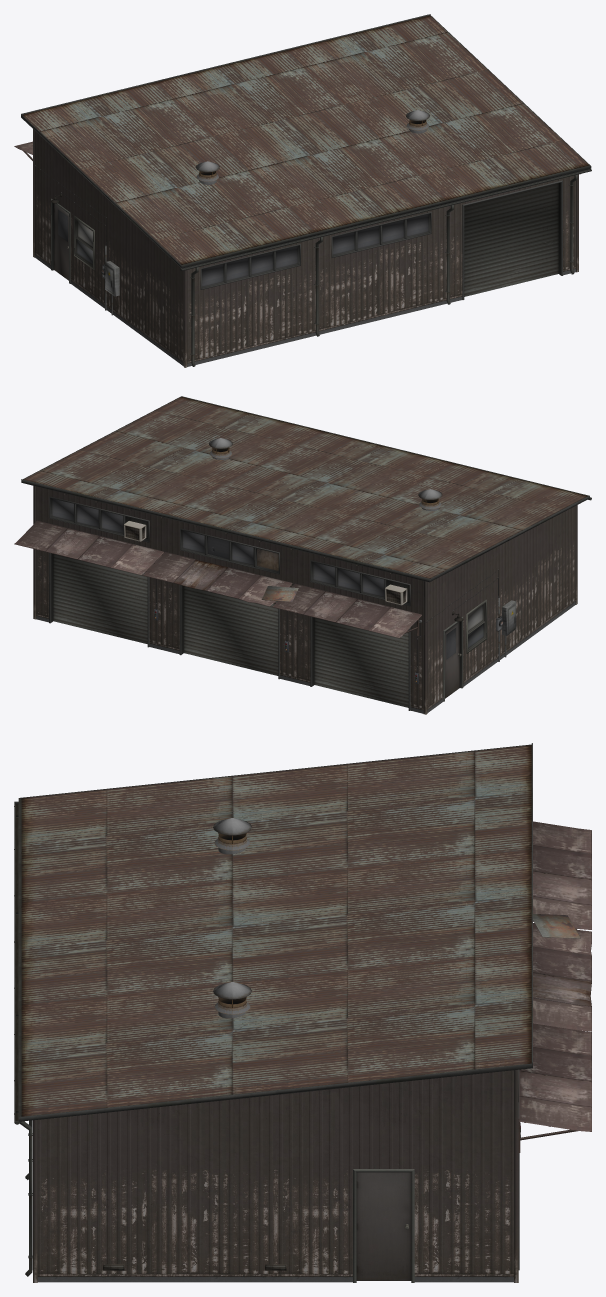
The model's file is interior.glb.
3 renders of one model, top to bottom at view 1: azimuth 30°, elevation 25°; view 2: azimuth 150°, elevation 25°; view 3: azimuth 270°, elevation 25°, orthographic. The views are drawn at different scales.
Parts seen in each view (by area): view 1: warehouse; view 2: warehouse; view 3: warehouse.
Part boxes in pixels (<box>): warehouse: <box>14,14,591,367</box>; warehouse: <box>14,396,591,714</box>; warehouse: <box>14,743,591,1282</box>.
Size of the model in its own units: 2.54 by 0.8371 by 1.94.
1 material, 1 textured.
